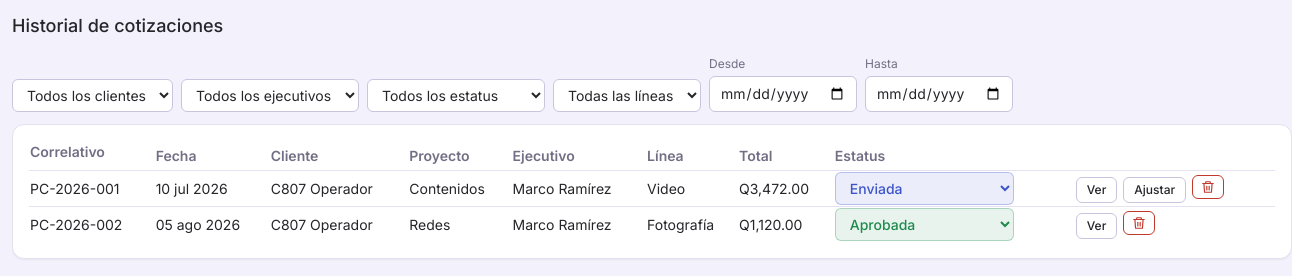
Test case: HistorialPage › shows a clear-filters button only once a filter is active, and it resets everything
The width and height of the screenshot is (1292, 276).
Expected: the text "PC-2026-001" is shown, [29,170,155,206]
Expected: the button "Limpiar filtros" is not shown
Select "Fotografía" in the dropdown named "Filtrar por línea de servicio": (627, 96) [553,79,701,112]
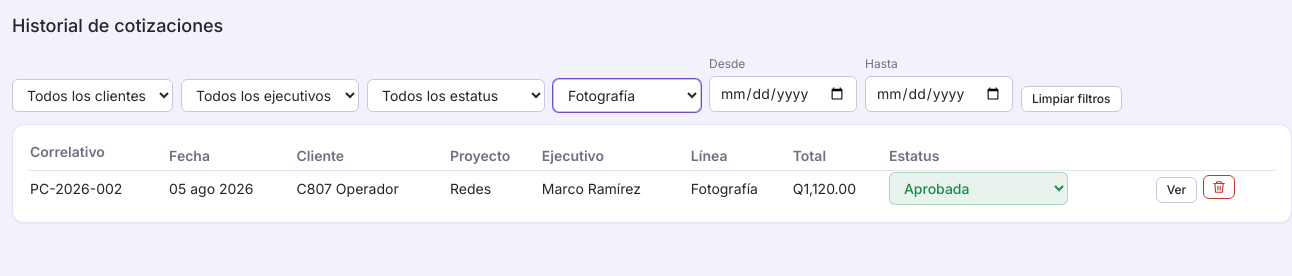
Now the text "PC-2026-001" is gone
Click the button "Limpiar filtros": click(1071, 99) [1021,86,1122,112]
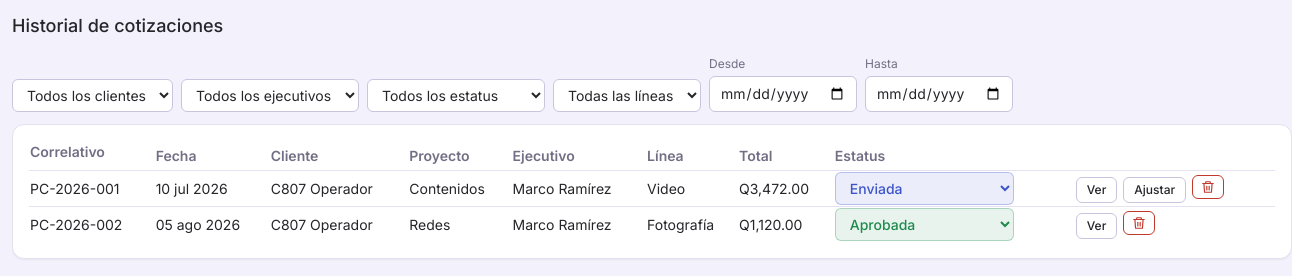
Now the text "PC-2026-001" is shown, box [29,170,155,206]
Now the button "Limpiar filtros" is gone
